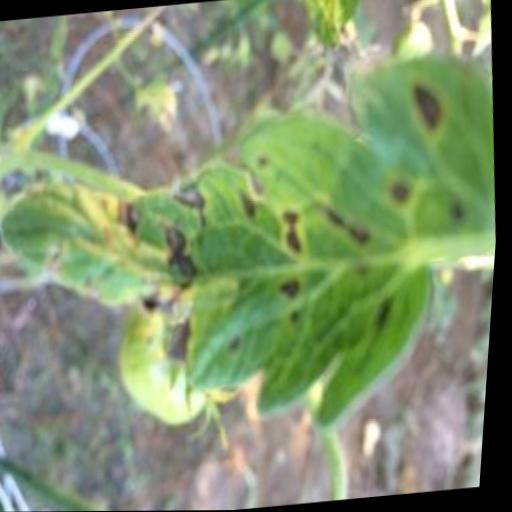Septoria: (0, 40, 510, 466)
